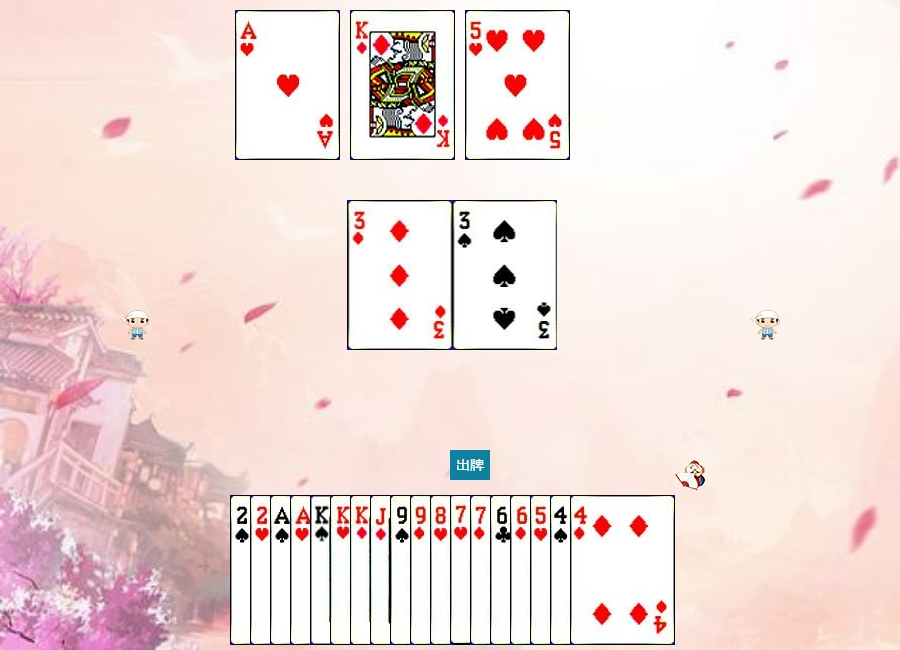11~1: (370, 495, 475, 645)
13~1: (350, 10, 455, 160), (350, 495, 455, 645)
13~3: (330, 495, 435, 645)
13~4: (310, 495, 415, 645)
14~3: (235, 10, 340, 160), (290, 495, 395, 645)
14~4: (270, 495, 375, 645)
15~3: (250, 495, 355, 645)
15~4: (230, 495, 335, 645)
3~1: (348, 200, 453, 350)
3~4: (453, 200, 558, 350)
4~1: (570, 495, 675, 645)
4~4: (550, 495, 655, 645)
5~3: (465, 10, 570, 160), (530, 495, 635, 645)
6~1: (510, 495, 615, 645)
6~2: (490, 495, 595, 645)
7~1: (470, 495, 575, 645)
7~3: (450, 495, 555, 645)
8~3: (430, 495, 535, 645)
9~1: (410, 495, 515, 645)
9~4: (390, 495, 495, 645)
